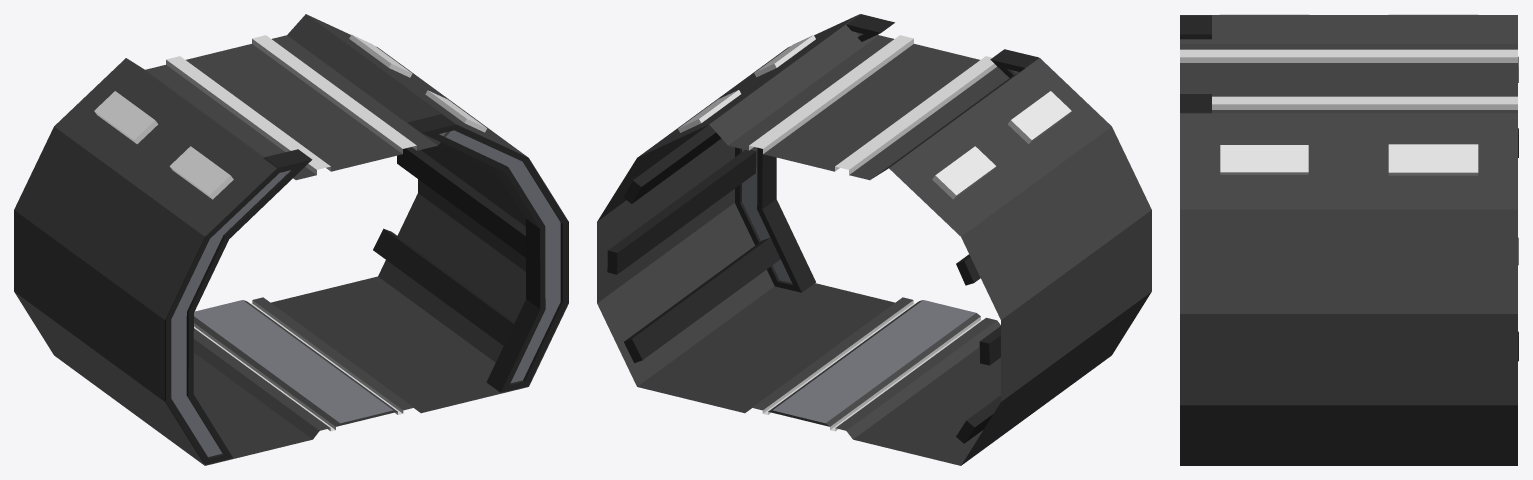
File: Ship-Corridor.fbx
The picture shows the model from 3 angles, left to right: view 1: azimuth 30°, elevation 25°; view 2: azimuth 150°, elevation 25°; view 3: azimuth 270°, elevation 25°; orthographic projection. The views are drawn at different scales.
Parts seen in each view (by area): view 1: Corrider_Mesh; view 2: Corrider_Mesh; view 3: Corrider_Mesh.
Boxes of the visible parts, x1,y1,x2,y2 form: Corrider_Mesh: (14, 14, 568, 465); Corrider_Mesh: (597, 14, 1151, 465); Corrider_Mesh: (1180, 14, 1518, 465).
Size of the model in its own units: 460 by 305 by 299.
